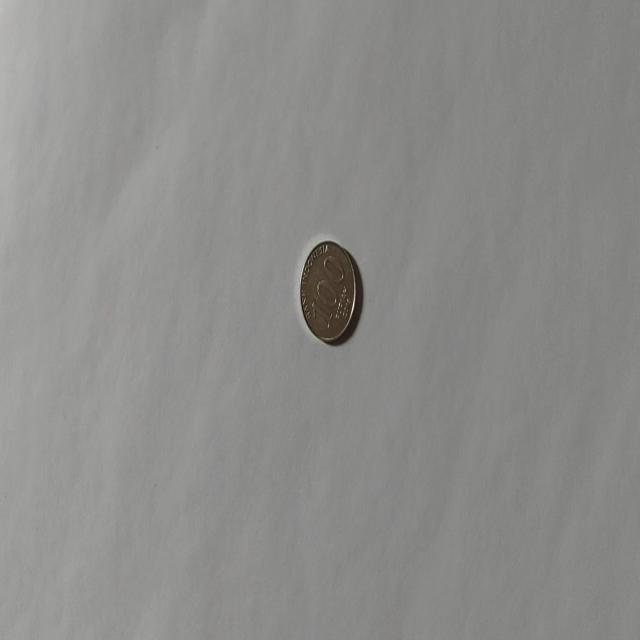seratus rupiah: (299, 238, 357, 344)
